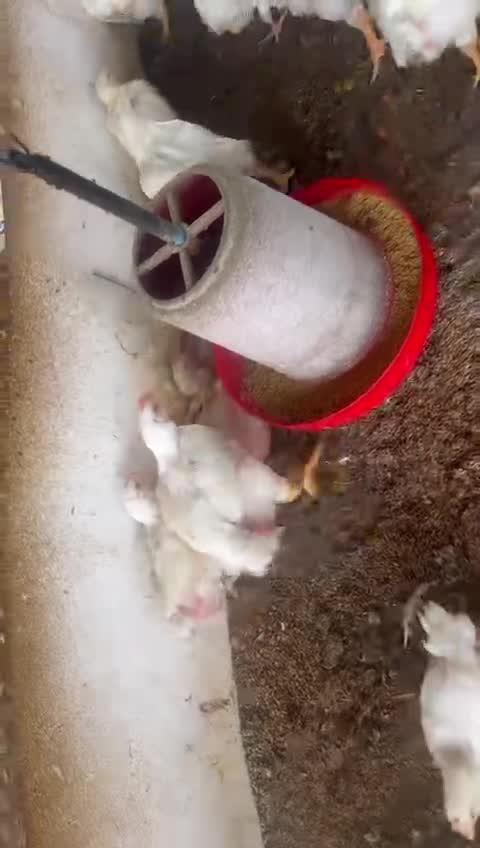AbNormal: (95, 65, 174, 123), (170, 344, 221, 430)
Normal: (140, 394, 311, 572), (124, 474, 241, 618), (107, 107, 287, 191), (420, 600, 480, 846), (375, 0, 480, 85), (297, 0, 394, 72), (79, 0, 176, 40), (195, 0, 293, 37)
